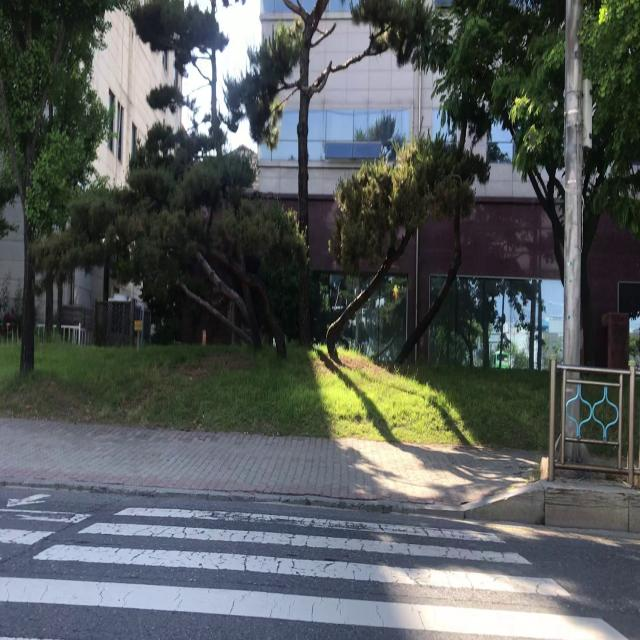횡단보도: (0, 490, 630, 640)
